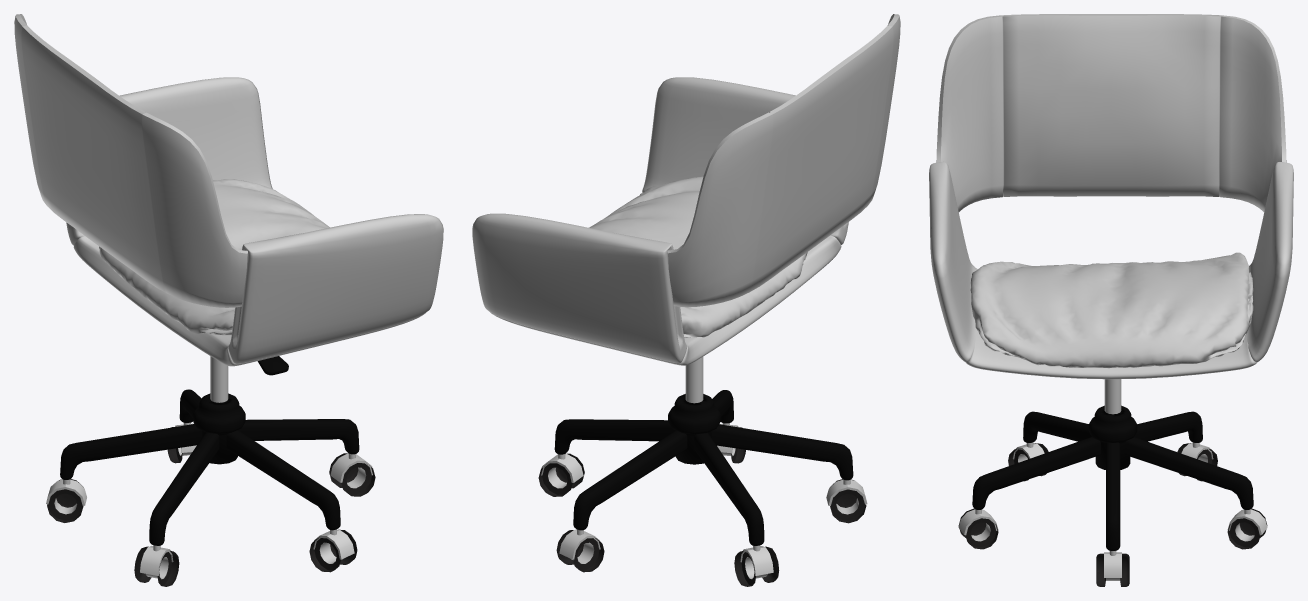
Rendered from Office_-_Task_chair_modern_white.001.gltf.
3 views of the same model, side by side, from view 1: azimuth 30°, elevation 25°; view 2: azimuth 150°, elevation 25°; view 3: azimuth 270°, elevation 25° (orthographic). The views are drawn at different scales.
Visible parts, largest first — view 1: Office - Task chair modern white_mesh; view 2: Office - Task chair modern white_mesh; view 3: Office - Task chair modern white_mesh.
Part boxes in pixels (<box>): Office - Task chair modern white_mesh: <box>14,14,443,586</box>; Office - Task chair modern white_mesh: <box>472,14,900,586</box>; Office - Task chair modern white_mesh: <box>929,14,1293,586</box>.
Size of what is drawn, in the model's own units: 0.7172 by 1.14 by 0.8421.
